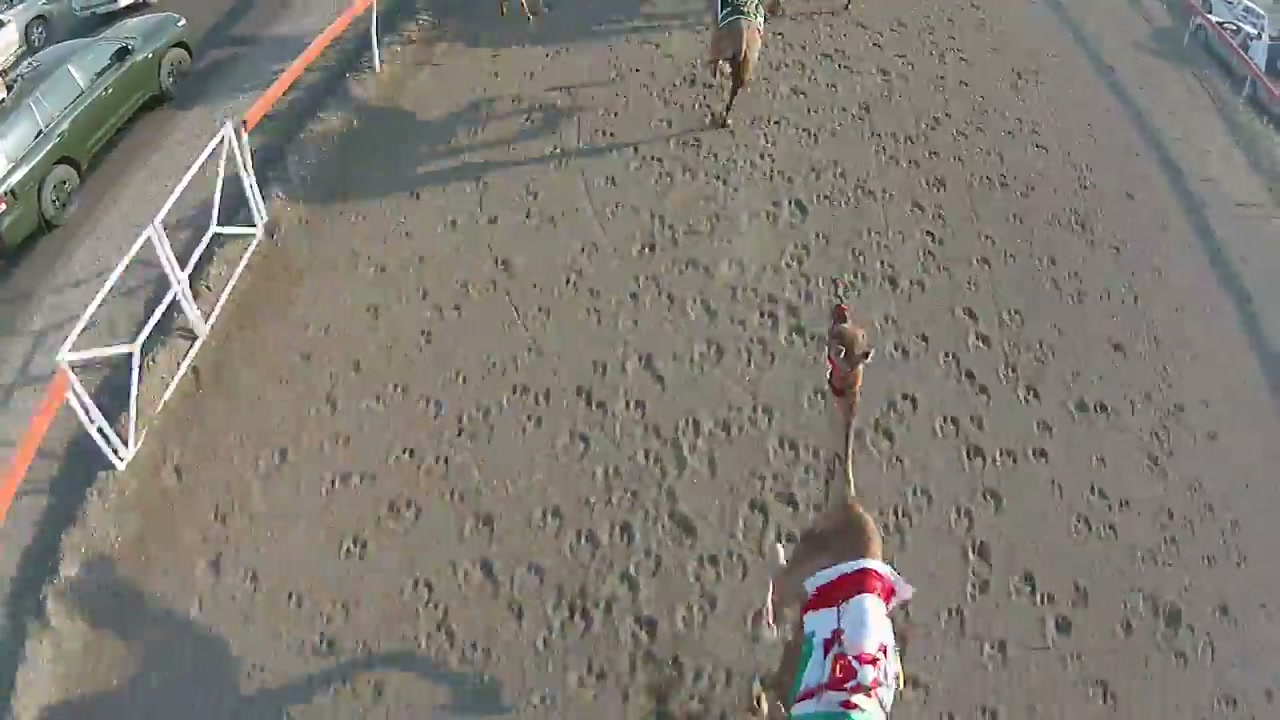animal_footprint: (63, 0, 1279, 717)
